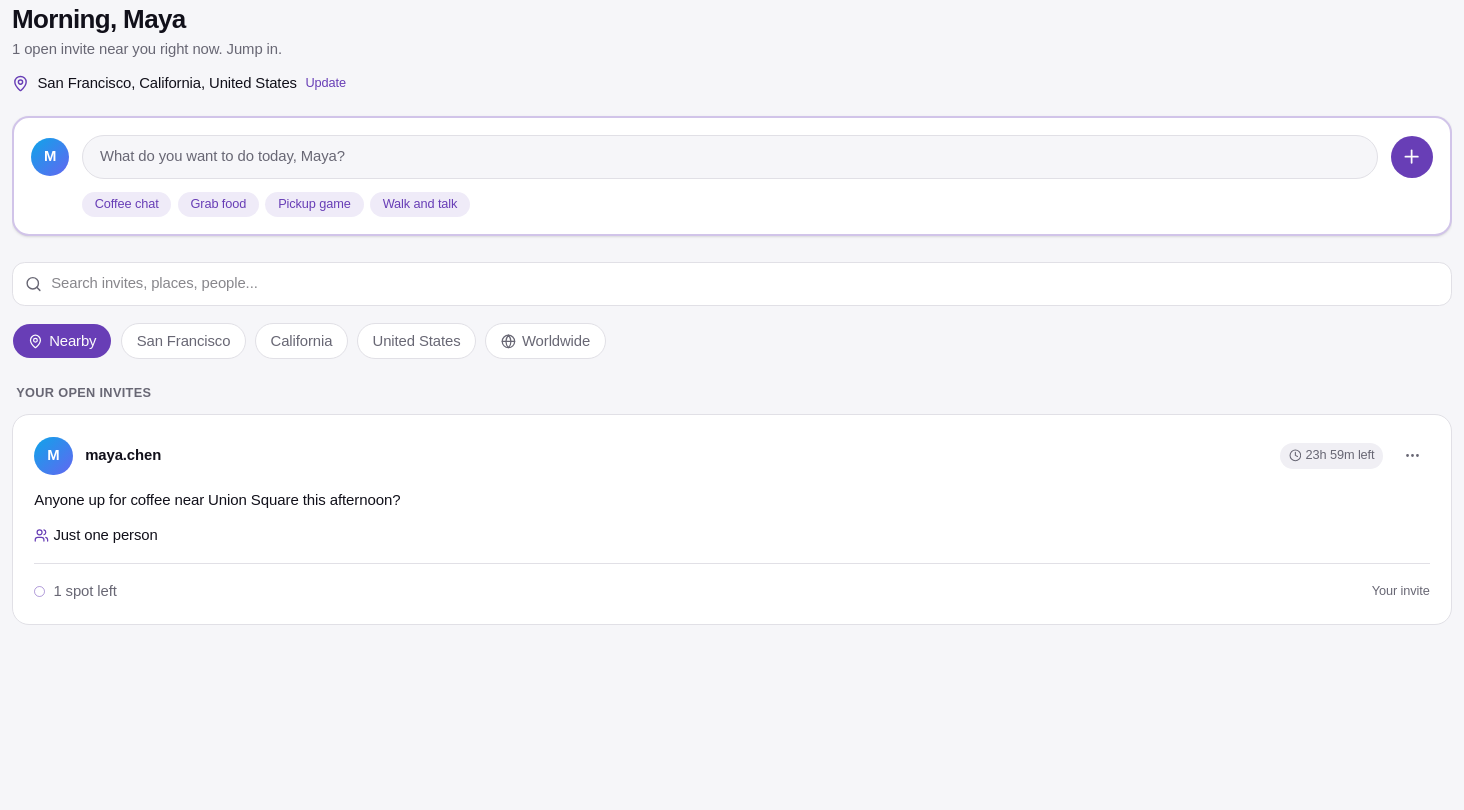
Test: HomePage composer and search › filters the feed by search text and offers a way back
This screenshot has width=1464, height=810.
Expected: the text "Anyone up for coffee near Union Square this afternoon?" is shown, left=34, top=491, right=400, bottom=508
Type "zzzz" into the search field labelled "Search invites" at (732, 284), box left=12, top=262, right=1452, bottom=306
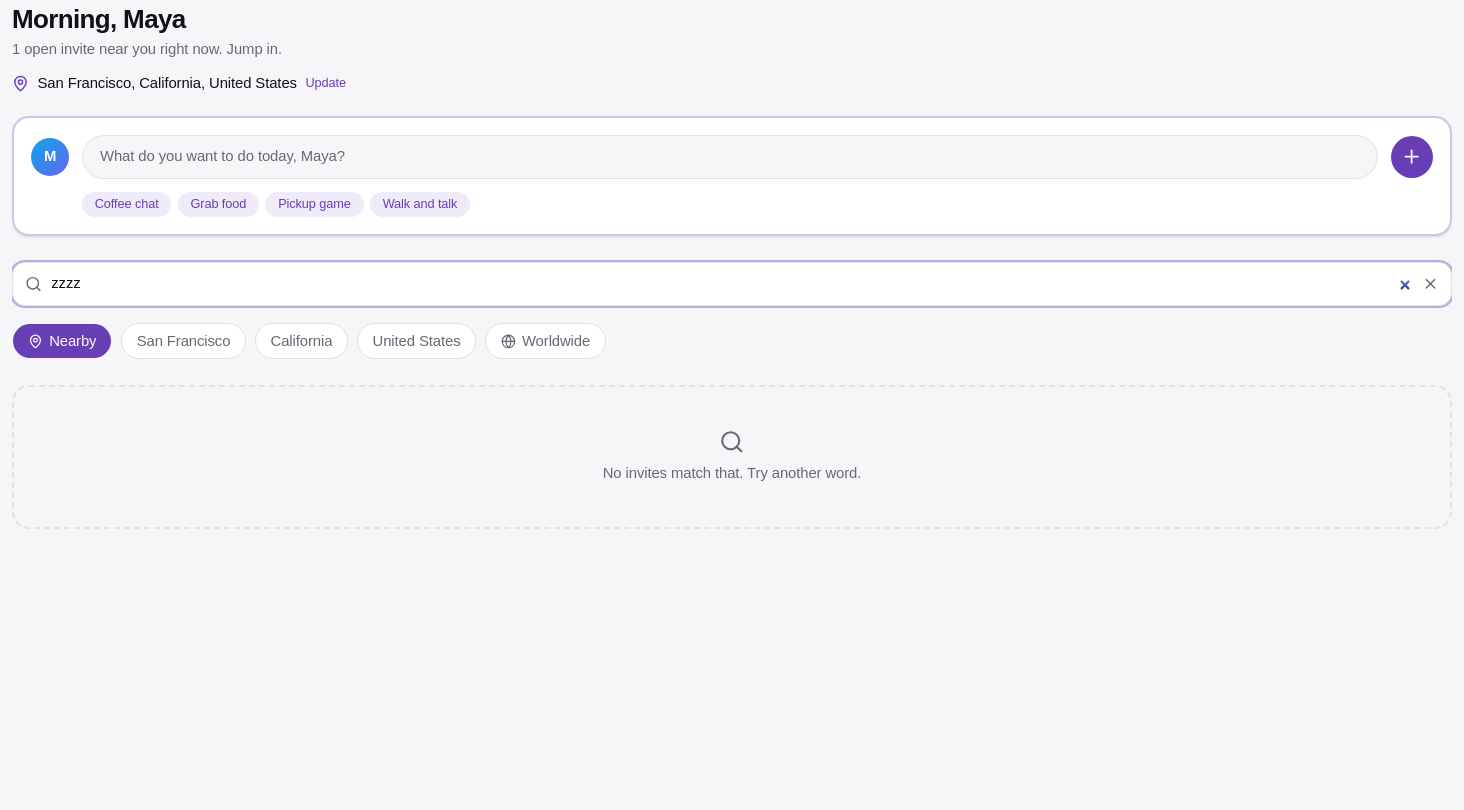
Result: the text "No invites match that. Try another word." is shown at left=603, top=463, right=861, bottom=484
Result: the text "Anyone up for coffee near Union Square this afternoon?" is gone
Click the button named "Clear search" at (1431, 284), box left=1418, top=271, right=1444, bottom=297
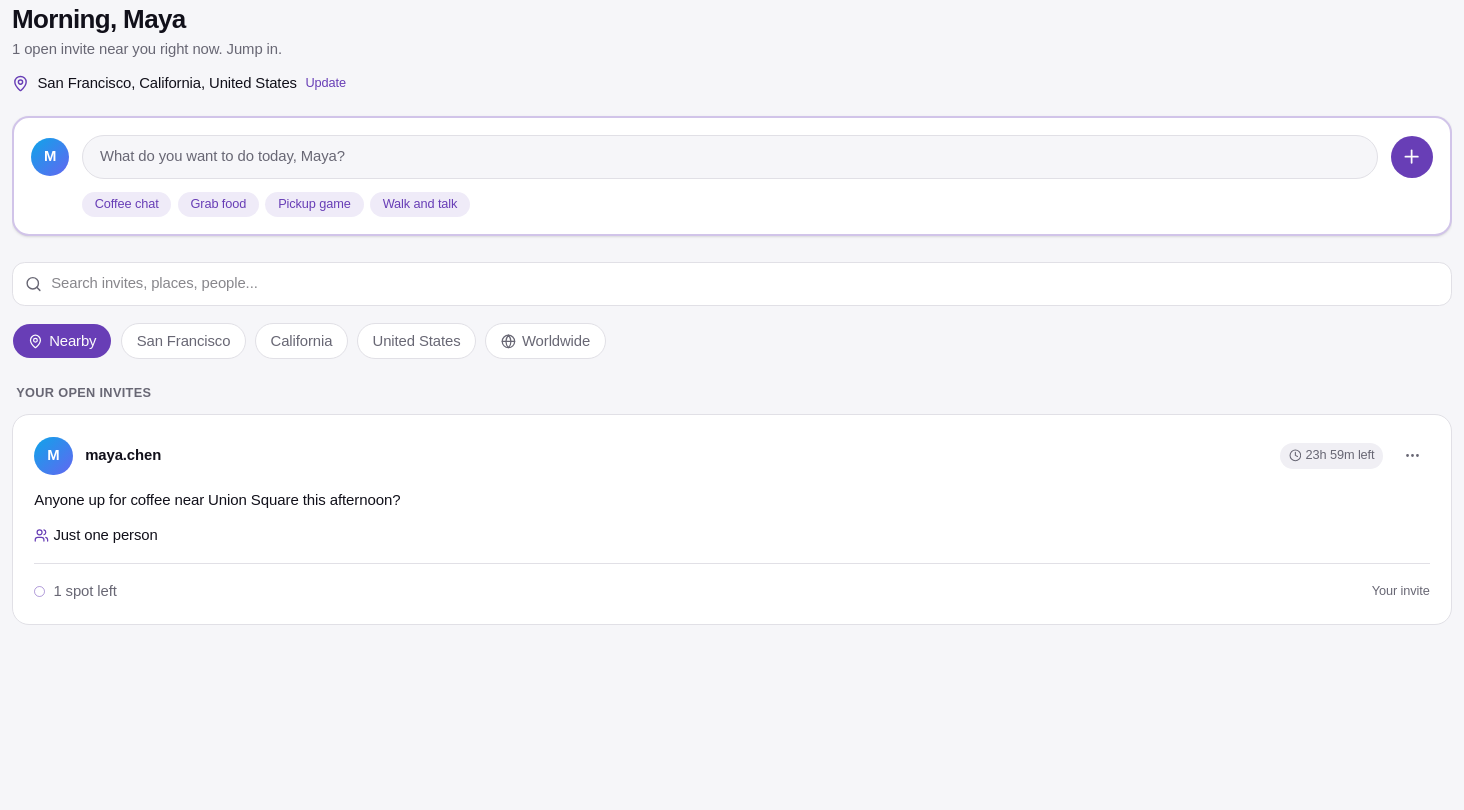
Result: the text "Anyone up for coffee near Union Square this afternoon?" is shown at left=34, top=491, right=400, bottom=508
